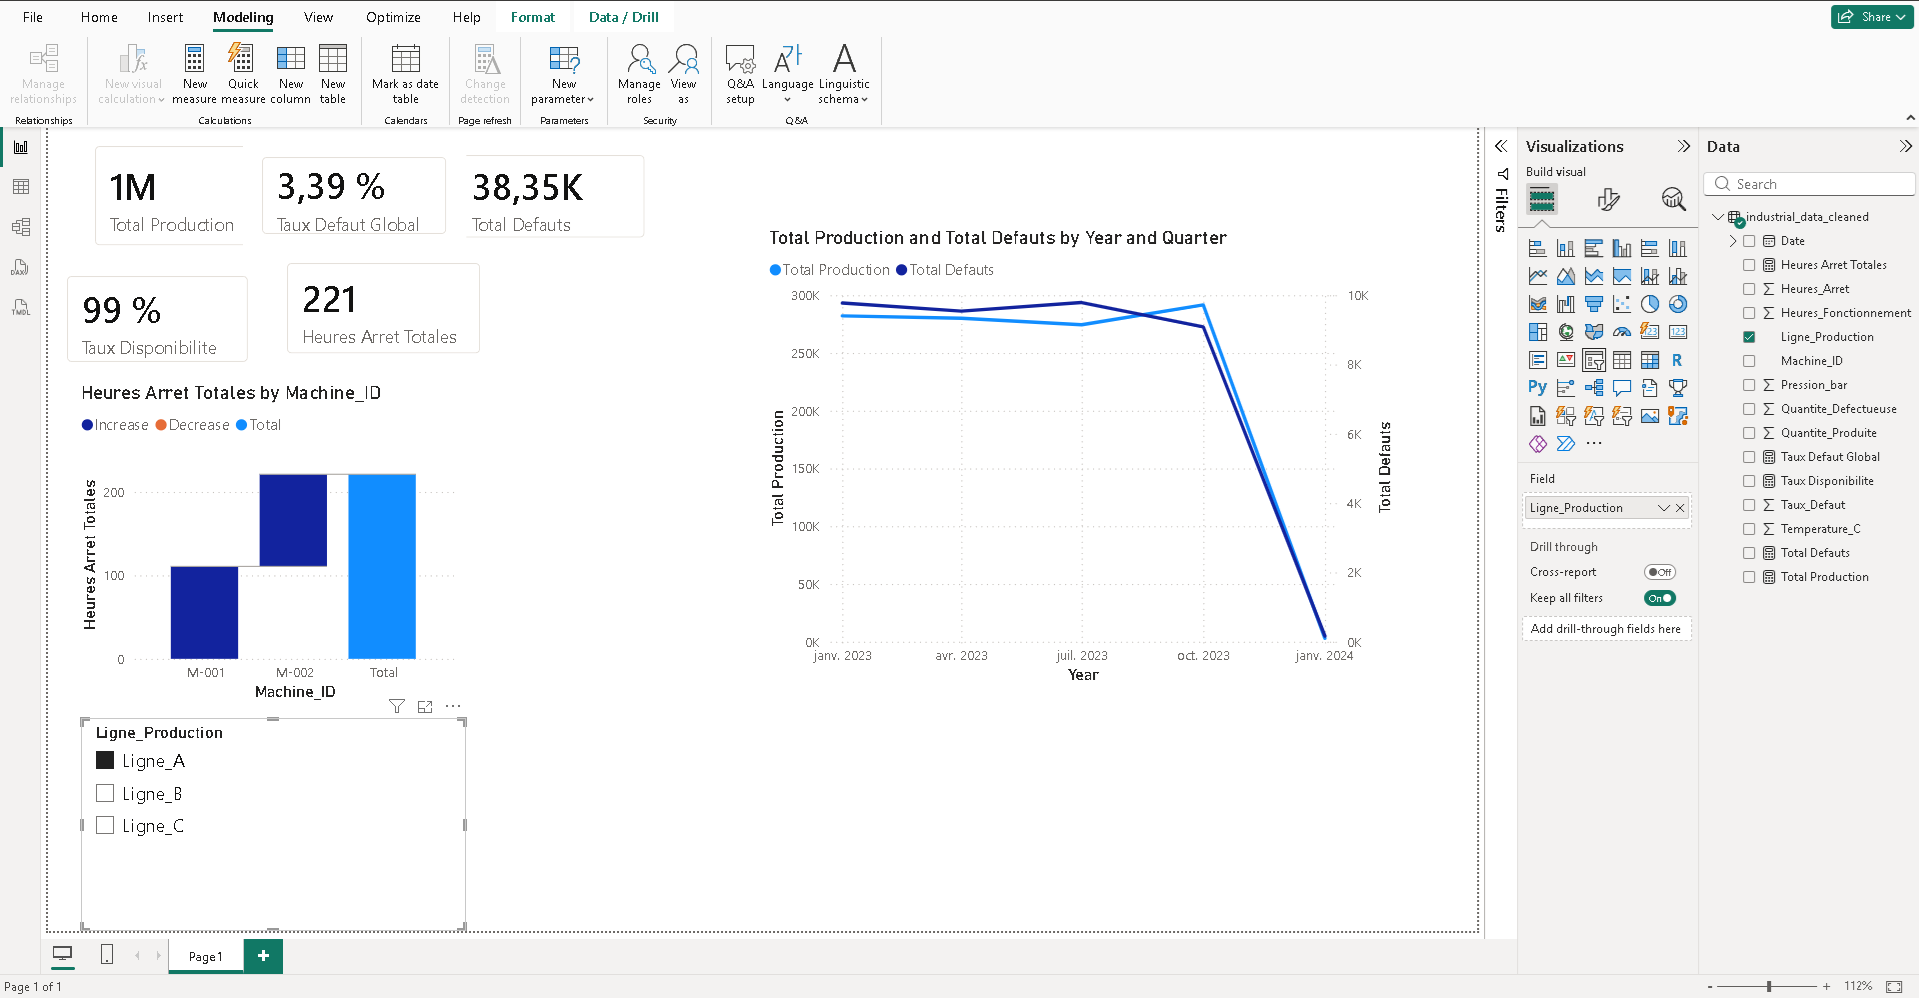

The page's visual inventory and layout, read from the dashboard file:
{"tool":"powerbi","page":{"name":"Page 1","canvas":[1280,720],"ordinal":0},"visuals":[{"type":"cardVisual","fields":{"Data":["industrial_data_cleaned.Total Production"]},"box":[25.1,0,185.7,123.5],"z":0},{"type":"cardVisual","fields":{"Data":["industrial_data_cleaned.Taux Disponibilite"]},"box":[0,116.5,196.8,111.4],"z":1},{"type":"cardVisual","fields":{"Data":["industrial_data_cleaned.Total Defauts"]},"box":[349.4,8,202.8,108.4],"z":2},{"type":"cardVisual","fields":{"Data":["industrial_data_cleaned.Taux Defaut Global"]},"box":[174.7,10,199.8,103.4],"z":3},{"type":"cardVisual","fields":{"Data":["industrial_data_cleaned.Heures Arret Totales"]},"box":[196.8,104.4,207.8,115.5],"z":4},{"type":"lineChart","fields":{"Category":["industrial_data_cleaned.Date.Variation.Date Hierarchy.Year","industrial_data_cleaned.Date.Variation.Date Hierarchy.Quarter","industrial_data_cleaned.Date.Variation.Date Hierarchy.Month","industrial_data_cleaned.Date.Variation.Date Hierarchy.Day"],"Y":["industrial_data_cleaned.Total Production"],"Y2":["industrial_data_cleaned.Total Defauts"]},"box":[640.5,88.3,568.2,414.6],"z":5},{"type":"waterfallChart","fields":{"Category":["industrial_data_cleaned.Machine_ID"],"Y":["industrial_data_cleaned.Heures Arret Totales"]},"box":[24.1,227.9,345.3,291.1],"z":6},{"type":"slicer","fields":{"Values":["industrial_data_cleaned.Ligne_Production"]},"box":[29.1,529.1,345.3,190.7],"z":7}]}

Visuals, with their boxes on the page's 1280x720 design canvas (x1, y1, x2, y2). These are canvas units, not pixel positions in the 1919x998 screenshot, which may show the page scaled, cropped or inside an application window:
cardVisual - industrial_data_cleaned.Total Production: detection(25, 0, 211, 124)
cardVisual - industrial_data_cleaned.Taux Disponibilite: detection(0, 116, 197, 228)
cardVisual - industrial_data_cleaned.Total Defauts: detection(349, 8, 552, 116)
cardVisual - industrial_data_cleaned.Taux Defaut Global: detection(175, 10, 374, 113)
cardVisual - industrial_data_cleaned.Heures Arret Totales: detection(197, 104, 405, 220)
lineChart - industrial_data_cleaned.Date.Variation.Date Hierarchy.Year x industrial_data_cleaned.Date.Variation.Date Hierarchy.Quarter: detection(640, 88, 1209, 503)
waterfallChart - industrial_data_cleaned.Machine_ID x industrial_data_cleaned.Heures Arret Totales: detection(24, 228, 369, 519)
slicer - industrial_data_cleaned.Ligne_Production: detection(29, 529, 374, 720)
